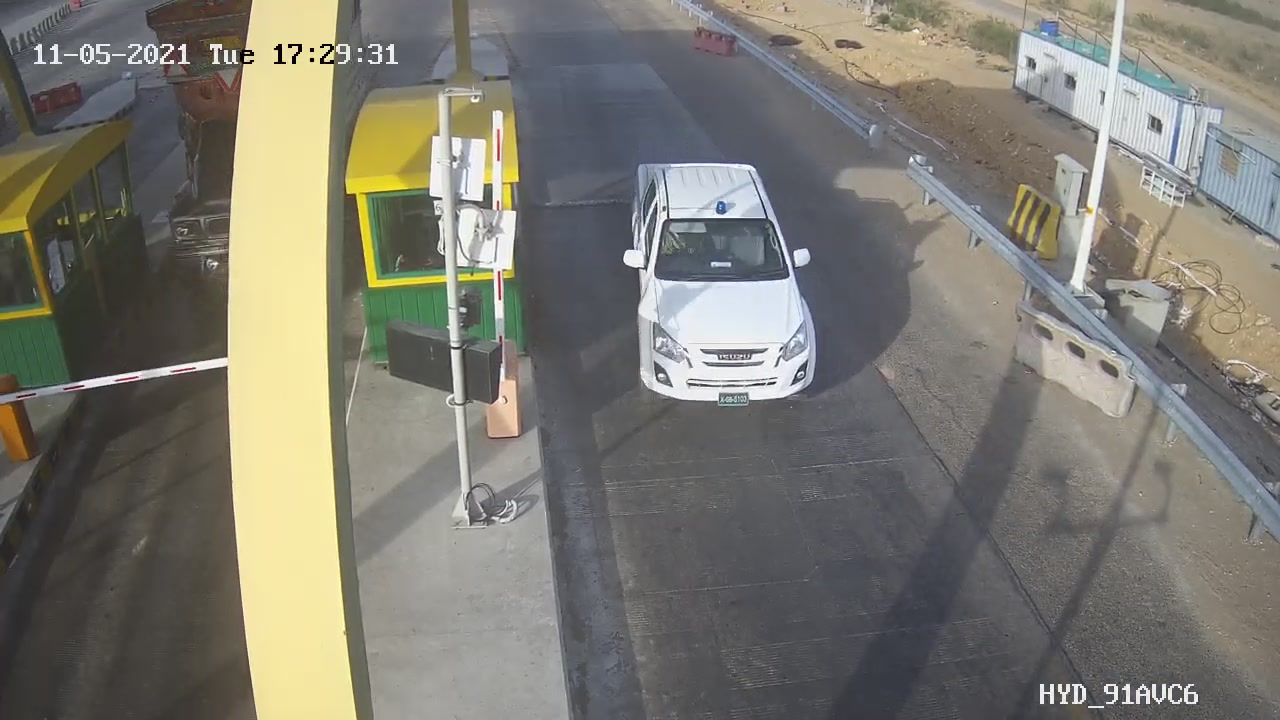F1: (607, 136, 843, 424)
